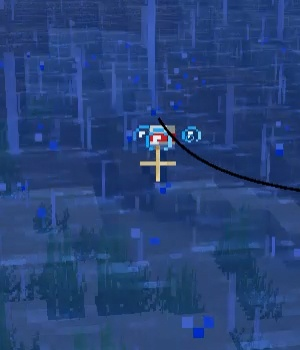up: (148, 121, 178, 163)
